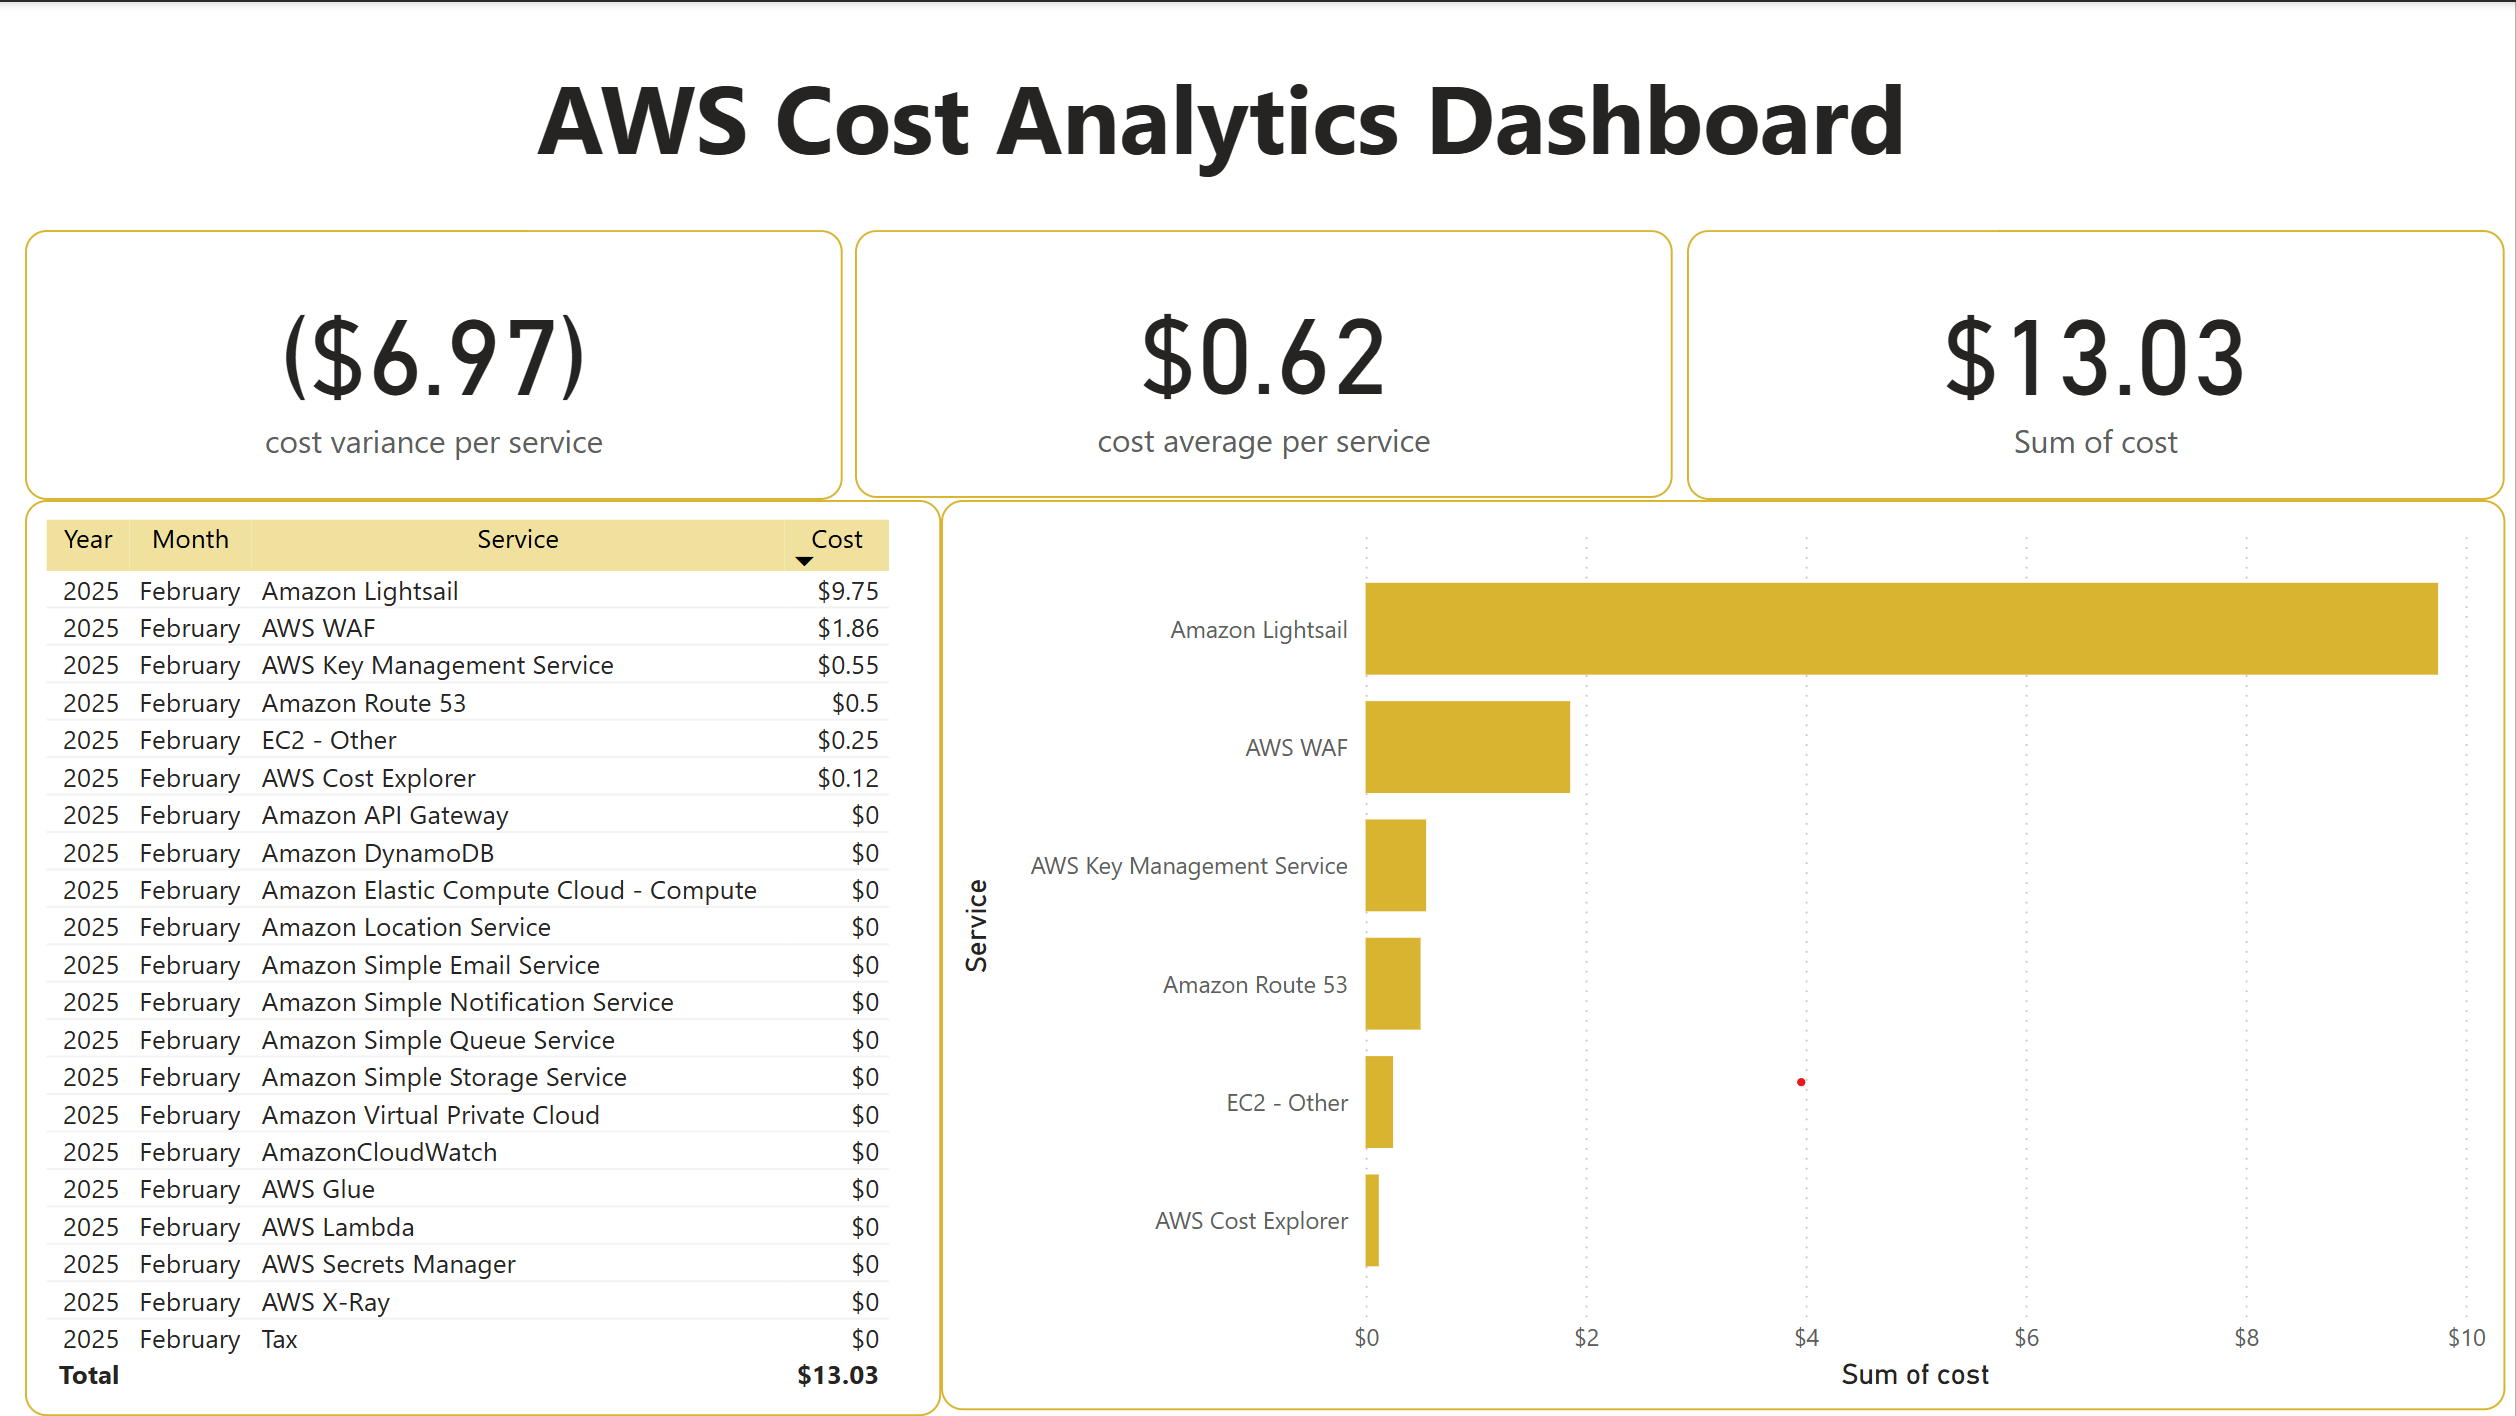

The dashboard page shown, as its layout file describes it:
{"tool":"powerbi","page":{"name":"Page 1","canvas":[1280,720],"ordinal":0},"visuals":[{"type":"tableEx","fields":{"Values":["unique_cost_data_vw.date.Variation.Date Hierarchy.Year","unique_cost_data_vw.date.Variation.Date Hierarchy.Month","unique_cost_data_vw.service","unique_cost_data_vw.cost"]},"box":[15.9,253.1,464.9,464.9],"z":0},{"type":"barChart","fields":{"Y":["Sum(unique_cost_data_vw.cost)"],"Category":["unique_cost_data_vw.service","unique_cost_data_vw.date.Variation.Date Hierarchy.Year","unique_cost_data_vw.date.Variation.Date Hierarchy.Month"]},"box":[481.1,252.8,793.8,461.9],"z":1000},{"type":"card","fields":{"Values":["Sum(unique_cost_data_vw.cost)"]},"box":[859.7,116.2,415,136.9],"z":2000},{"type":"card","fields":{"Values":["unique_cost_data_vw.cost average per service"]},"box":[437.8,116.2,415,136],"z":3000},{"type":"card","fields":{"Values":["unique_cost_data_vw.cost variance per service"]},"box":[15.9,116.2,415,136.9],"z":4000},{"type":"textbox","box":[270.6,20.7,746.7,95.5],"z":5000}]}

Visuals, with their boxes in screenshot pixels (x1, y1, x2, y2), scaled from the page's 1280x720 canvas onto the 2516x1416 screenshot:
tableEx - unique_cost_data_vw.date.Variation.Date Hierarchy.Year x unique_cost_data_vw.date.Variation.Date Hierarchy.Month: <bbox>31, 498, 945, 1412</bbox>
barChart - Sum(unique_cost_data_vw.cost) x unique_cost_data_vw.service: <bbox>946, 497, 2506, 1406</bbox>
card - Sum(unique_cost_data_vw.cost): <bbox>1690, 229, 2506, 498</bbox>
card - unique_cost_data_vw.cost average per service: <bbox>861, 229, 1676, 496</bbox>
card - unique_cost_data_vw.cost variance per service: <bbox>31, 229, 847, 498</bbox>
textbox: <bbox>532, 41, 2000, 229</bbox>
